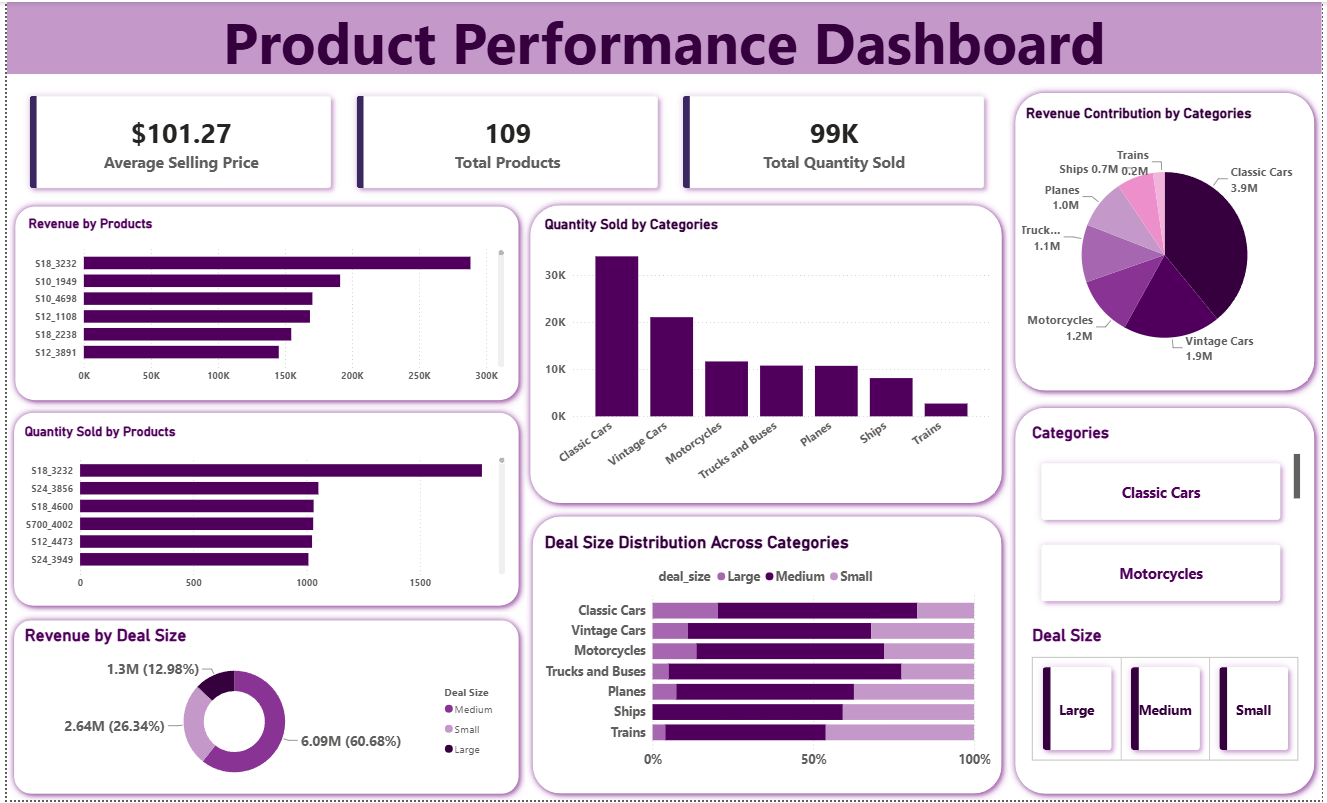

The page's visual inventory and layout, read from the dashboard file:
{"tool":"powerbi","page":{"name":"Product Performance Dashboard","canvas":[1680,1020],"ordinal":1},"visuals":[{"type":"cardVisual","fields":{"Data":["Measures (2).Average Selling Price","Measures (2).Total Products","Measures (2).Total Quantity Sold"]},"box":[0,91.6,1279.4,176.2],"z":0},{"type":"shape","box":[1.3,252.4,660.9,265.4],"z":1000},{"type":"clusteredBarChart","title":"Revenue by Products","fields":{"Category":["Products.product_code"],"Y":["Measures (2).Total Revenue"]},"box":[22.1,273.2,618,222.5],"z":2000},{"type":"shape","box":[0,516.3,662.6,264.3],"z":3000},{"type":"clusteredBarChart","title":"Quantity Sold by Products","fields":{"Category":["Products.product_code"],"Y":["Measures (2).Total Quantity Sold"]},"box":[17.6,537.5,623.8,222],"z":4000},{"type":"shape","box":[659.1,250.2,620.3,398.3],"z":5000},{"type":"columnChart","title":"Quantity Sold by Categories","fields":{"Category":["Categories.product_line"],"Y":["Measures (2).Total Quantity Sold"]},"box":[682,273.2,579.8,354.2],"z":6000},{"type":"shape","box":[662.6,648.5,616.8,371.8],"z":7000},{"type":"shape","box":[0,780.7,662.6,239.7],"z":8000},{"type":"donutChart","title":"Revenue by Deal Size","fields":{"Y":["Measures (2).Total Revenue"],"Category":["Orders Details.deal_size"]},"box":[17.6,796.5,622.1,209.7],"z":9000},{"type":"hundredPercentStackedBarChart","title":"Deal Size Distribution Across Categories","fields":{"Category":["Categories.product_line"],"Y":["Measures (2).Total Revenue"],"Series":["Orders Details.deal_size"]},"box":[682,676.7,579.8,311.9],"z":10000},{"type":"shape","box":[1279.4,107.5,400,398.3],"z":11000},{"type":"pieChart","title":"Revenue Contribution by Categories","fields":{"Category":["Categories.product_line"],"Y":["Measures (2).Total Revenue"]},"box":[1297,130.4,364.8,352.5],"z":12000},{"type":"shape","box":[1279.4,509.3,400,511.1],"z":13000},{"type":"advancedSlicerVisual","title":" Categories","fields":{"Values":["Categories.product_line"]},"box":[1304.1,537.5,352.5,245],"z":14000},{"type":"advancedSlicerVisual","title":"Deal Size","fields":{"Values":["Orders Details.deal_size"]},"box":[1304.5,796.8,352.9,177.2],"z":15000},{"type":"shape","title":"Product Performance Dashboard","box":[0,0,1679.4,91.6],"z":16000}]}

Visuals, with their boxes in screenshot pixels (x1, y1, x2, y2), scaled from the page's 1680x1020 canvas onto the 1327x803 screenshot:
cardVisual - Measures (2).Average Selling Price x Measures (2).Total Products: bbox(0, 72, 1011, 211)
shape: bbox(1, 199, 523, 408)
"Revenue by Products" clusteredBarChart: bbox(17, 215, 506, 390)
shape: bbox(0, 406, 523, 615)
"Quantity Sold by Products" clusteredBarChart: bbox(14, 423, 507, 598)
shape: bbox(521, 197, 1011, 511)
"Quantity Sold by Categories" columnChart: bbox(539, 215, 997, 494)
shape: bbox(523, 511, 1011, 802)
shape: bbox(0, 615, 523, 802)
"Revenue by Deal Size" donutChart: bbox(14, 627, 505, 792)
"Deal Size Distribution Across Categories" hundredPercentStackedBarChart: bbox(539, 533, 997, 778)
shape: bbox(1011, 85, 1326, 398)
"Revenue Contribution by Categories" pieChart: bbox(1024, 103, 1313, 380)
shape: bbox(1011, 401, 1326, 802)
" Categories" advancedSlicerVisual: bbox(1030, 423, 1309, 616)
"Deal Size" advancedSlicerVisual: bbox(1030, 627, 1309, 767)
"Product Performance Dashboard" shape: bbox(0, 0, 1326, 72)
